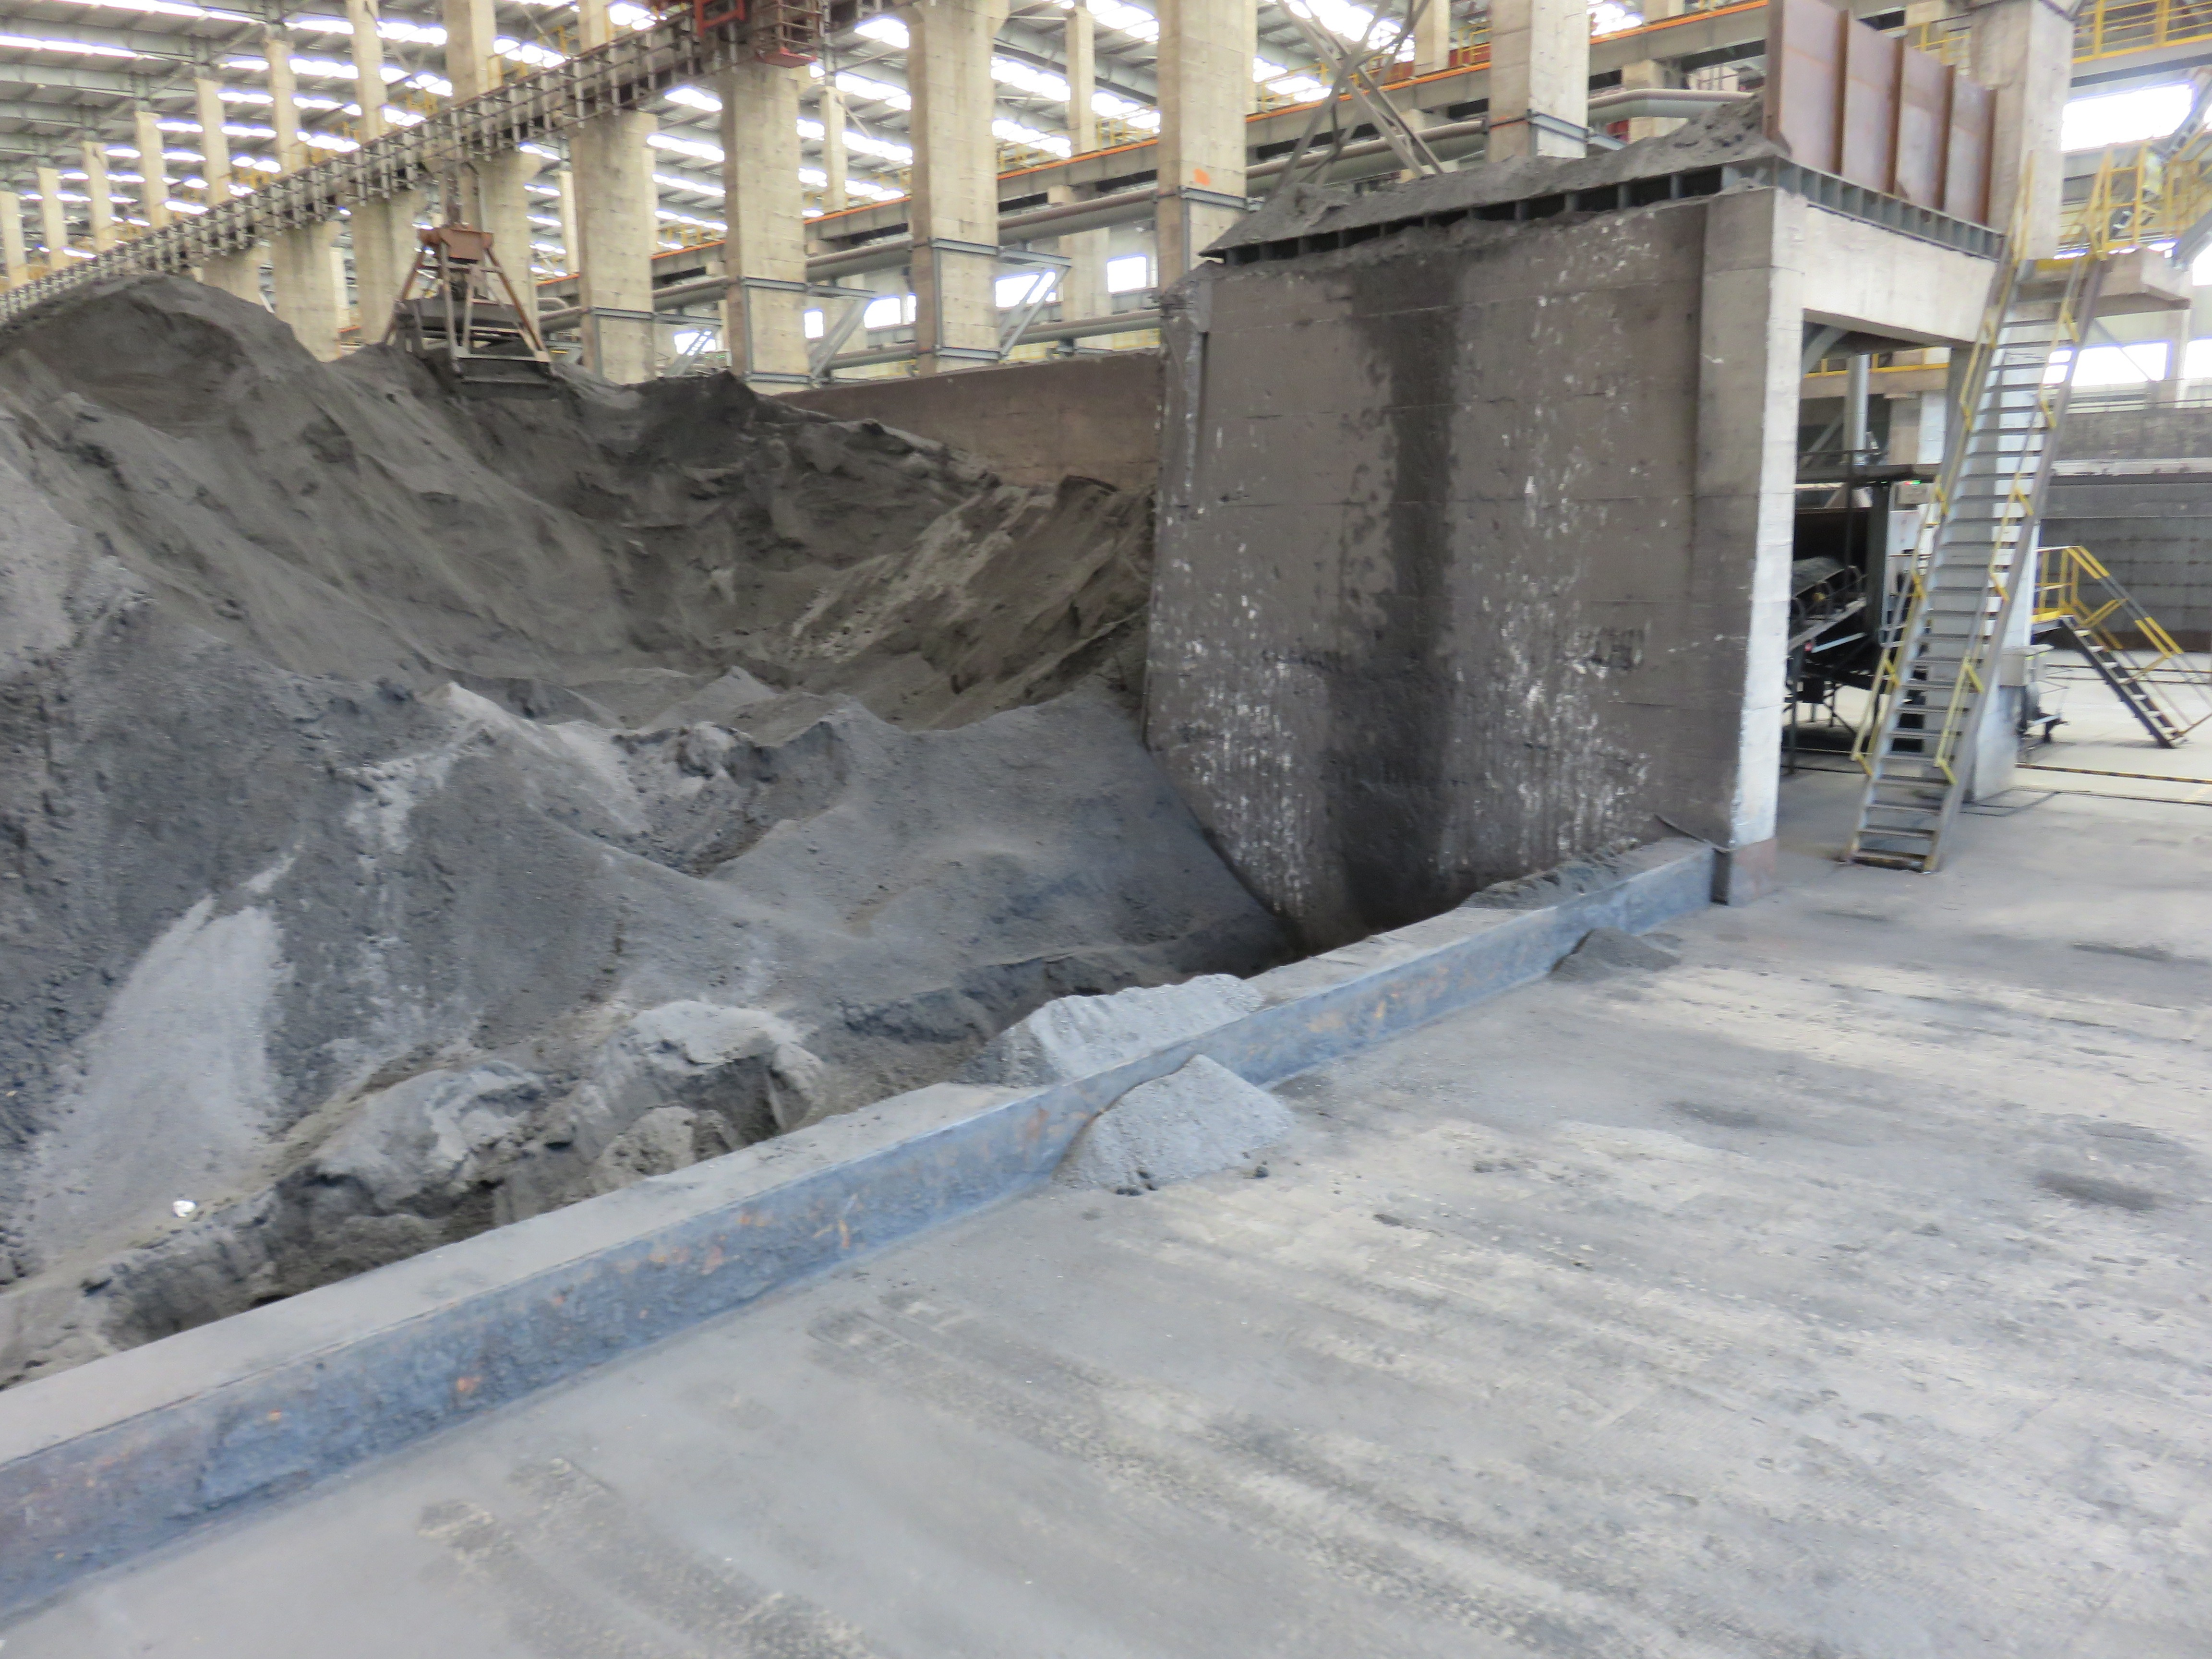grab: (373, 216, 568, 406)
